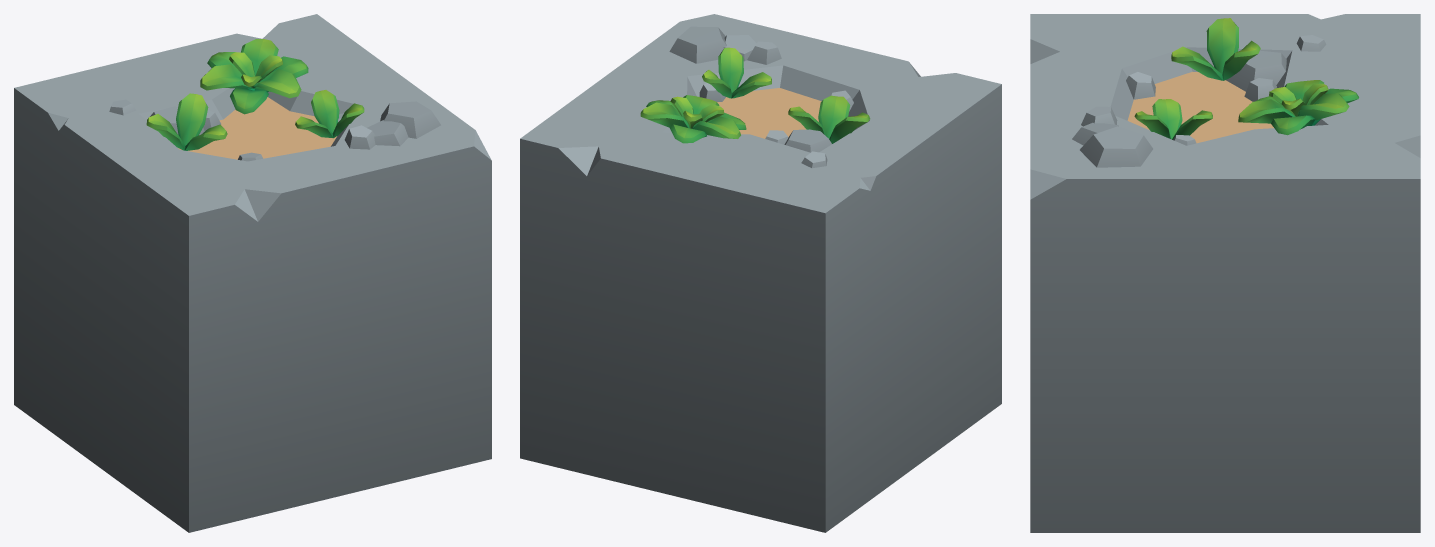
Rendered from block_B.gltf.glb.
The picture shows the model from 3 angles, left to right: view 1: azimuth 30°, elevation 25°; view 2: azimuth 150°, elevation 25°; view 3: azimuth 270°, elevation 25°; orthographic projection. The views are drawn at different scales.
Visible parts, largest first — view 1: block_B; view 2: block_B; view 3: block_B.
Part boxes in pixels (x1,y1,x2,y2): block_B: (14,14,491,532); block_B: (520,14,1001,532); block_B: (1030,14,1420,532).
Size of the model in its own units: 2 by 2.15 by 2.
Materials: 1 (1 with a texture image).
